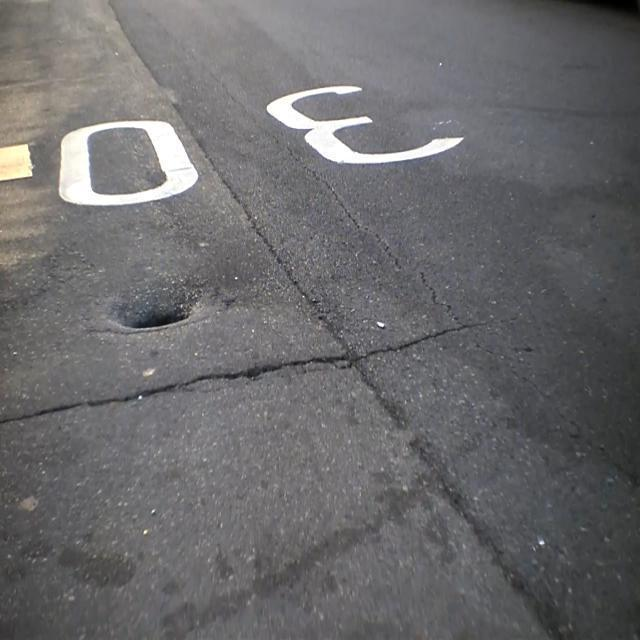pothole: (108, 269, 213, 339)
